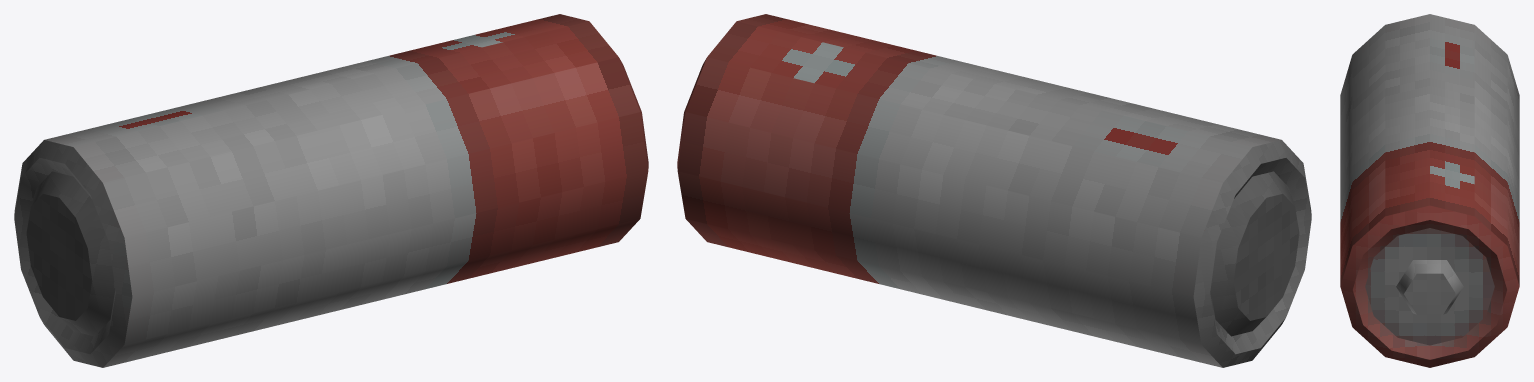
Rendered from battery_mp_1_1.glb.
The picture shows the model from 3 angles, left to right: view 1: azimuth 30°, elevation 25°; view 2: azimuth 150°, elevation 25°; view 3: azimuth 270°, elevation 25°; orthographic projection. The views are drawn at different scales.
Visible parts, largest first — view 1: battery_mp_1_1; view 2: battery_mp_1_1; view 3: battery_mp_1_1.
Part boxes in pixels (x1,y1,x2,y2): battery_mp_1_1: (14, 14, 648, 367); battery_mp_1_1: (677, 14, 1311, 367); battery_mp_1_1: (1340, 14, 1519, 367).
Size of the model in its own units: 0.097 by 0.036 by 0.036.
1 material, 1 textured.
